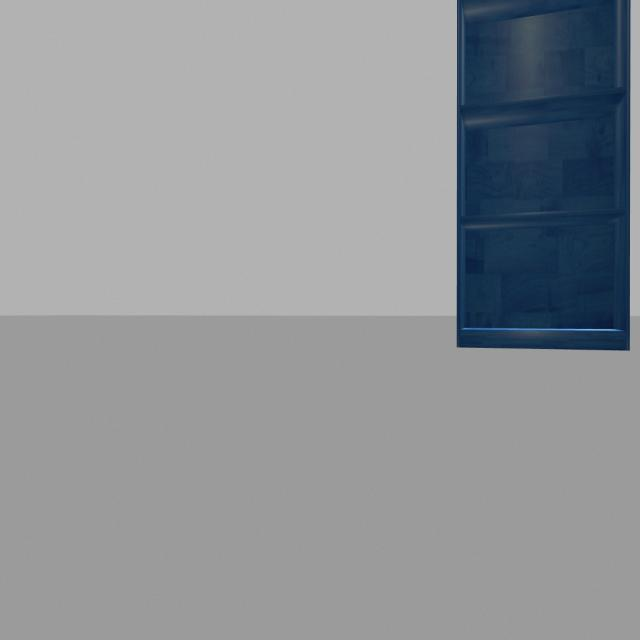shelf: (443, 0, 639, 361)
